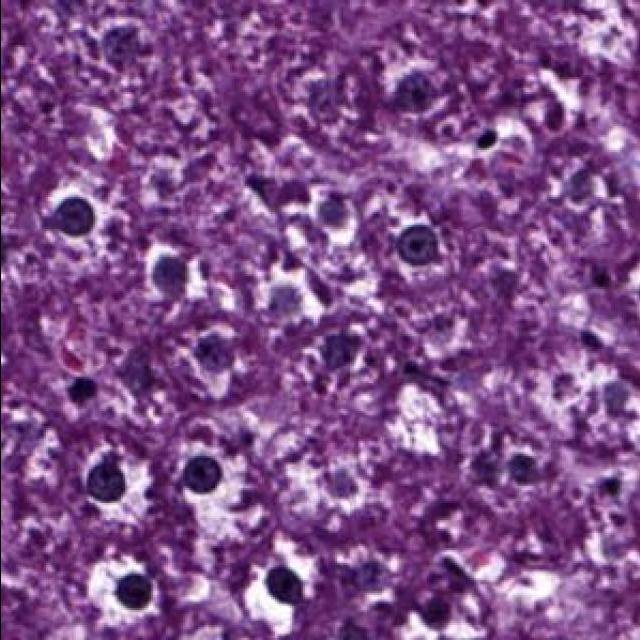inflammation: (88, 556, 157, 625), (88, 556, 158, 624), (41, 196, 93, 236), (85, 452, 124, 502), (395, 225, 437, 266), (191, 332, 232, 374), (389, 71, 431, 111), (100, 25, 142, 65), (181, 456, 221, 494), (319, 332, 358, 370), (264, 566, 301, 605), (150, 256, 184, 296), (316, 192, 346, 228), (418, 595, 449, 629), (505, 454, 535, 485), (66, 378, 95, 405), (579, 332, 602, 351), (475, 130, 496, 150)
